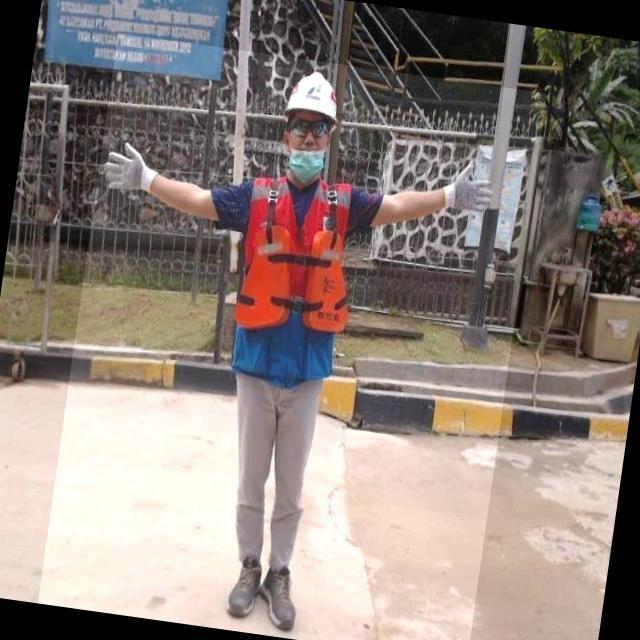Helmet: (283, 65, 347, 126)
Human: (38, 33, 547, 640)
Safety Boot: (256, 562, 306, 634), (225, 552, 267, 622)
Safety Vest: (229, 171, 367, 386)
